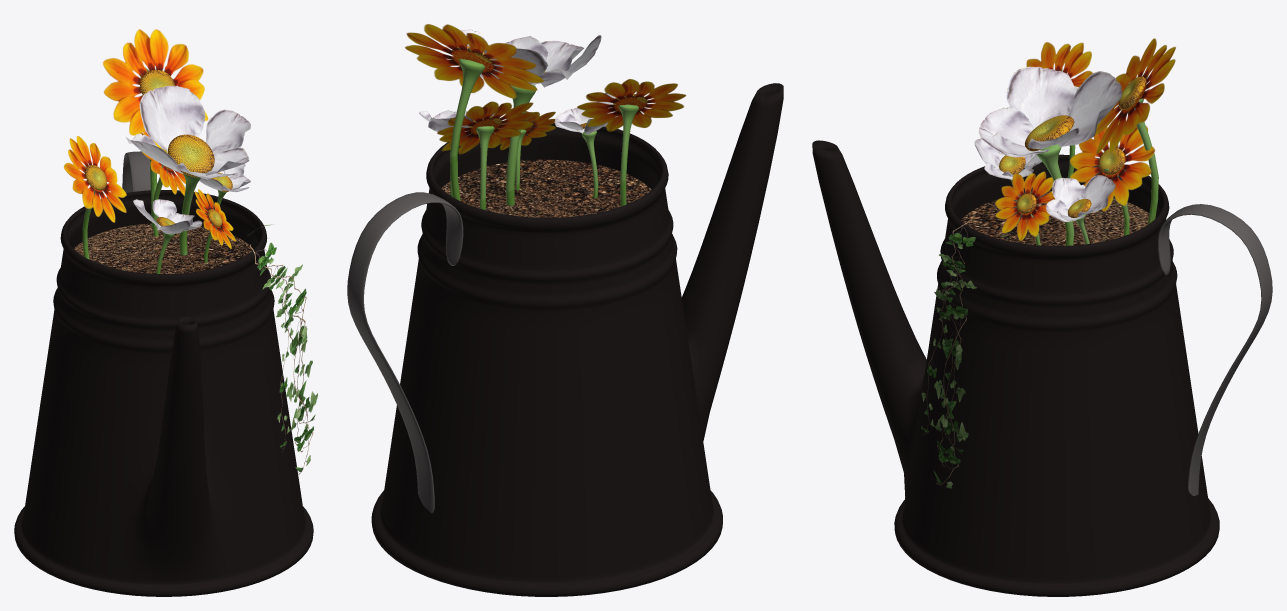
The model's file is decoration6.glb.
3 views of the same model, side by side, from view 1: azimuth 30°, elevation 25°; view 2: azimuth 150°, elevation 25°; view 3: azimuth 270°, elevation 25° (orthographic). The views are drawn at different scales.
Parts seen in each view (by area): view 1: wt1, Circle.002, Plane.018, Plane.019, Plane.001, Plane.005, Plane.002, Sphere, wt2, Plane.012, Plane.000, Plane.006 (+4 smaller); view 2: wt1, Circle.002, wt2, Plane.018, Plane.005, Plane.006, Cylinder.006, Cylinder, Plane.004, Cylinder.002, Plane.012, Plane.000 (+2 smaller); view 3: wt1, wt2, Circle.002, Plane.019, Plane.018, Plane.000, Plane.006, Plane.012, Plane.001, Plane.004, Plane.005, Sphere (+4 smaller).
Boxes of the visible parts, x1=… form: wt1: x1=14, y1=190, x2=313, y2=596; Circle.002: x1=74, y1=223, x2=252, y2=273; Plane.018: x1=102, y1=29, x2=208, y2=148; Plane.019: x1=247, y1=224, x2=317, y2=474; Plane.001: x1=139, y1=85, x2=205, y2=152; Plane.005: x1=63, y1=136, x2=126, y2=222; Plane.002: x1=205, y1=109, x2=250, y2=152; Sphere: x1=168, y1=134, x2=214, y2=176; wt2: x1=122, y1=151, x2=150, y2=192; Plane.012: x1=194, y1=189, x2=235, y2=248; Plane.000: x1=125, y1=134, x2=183, y2=173; Plane.006: x1=140, y1=131, x2=185, y2=195; wt1: x1=371, y1=83, x2=783, y2=596; Circle.002: x1=441, y1=159, x2=651, y2=217; wt2: x1=347, y1=192, x2=463, y2=513; Plane.018: x1=405, y1=24, x2=543, y2=98; Plane.005: x1=577, y1=79, x2=686, y2=131; Plane.006: x1=437, y1=101, x2=537, y2=154; Cylinder.006: x1=450, y1=58, x2=485, y2=200; Cylinder: x1=506, y1=85, x2=536, y2=205; Plane.004: x1=531, y1=40, x2=584, y2=85; Cylinder.002: x1=618, y1=104, x2=638, y2=206; Plane.012: x1=488, y1=111, x2=555, y2=150; Plane.000: x1=538, y1=35, x2=601, y2=87; wt1: x1=812, y1=140, x2=1219, y2=596; wt2: x1=1158, y1=204, x2=1272, y2=495; Circle.002: x1=961, y1=191, x2=1149, y2=245; Plane.019: x1=921, y1=220, x2=1011, y2=488; Plane.018: x1=1095, y1=38, x2=1175, y2=153; Plane.000: x1=1006, y1=66, x2=1077, y2=128; Plane.006: x1=1069, y1=121, x2=1154, y2=211; Plane.012: x1=995, y1=171, x2=1054, y2=240; Plane.001: x1=1058, y1=71, x2=1121, y2=146; Plane.004: x1=978, y1=107, x2=1039, y2=157; Plane.005: x1=1026, y1=42, x2=1092, y2=88; Sphere: x1=1025, y1=115, x2=1074, y2=151.
Size of the model in its own units: 1.81 by 3.07 by 2.56.
Materials: 8 (6 with a texture image).
